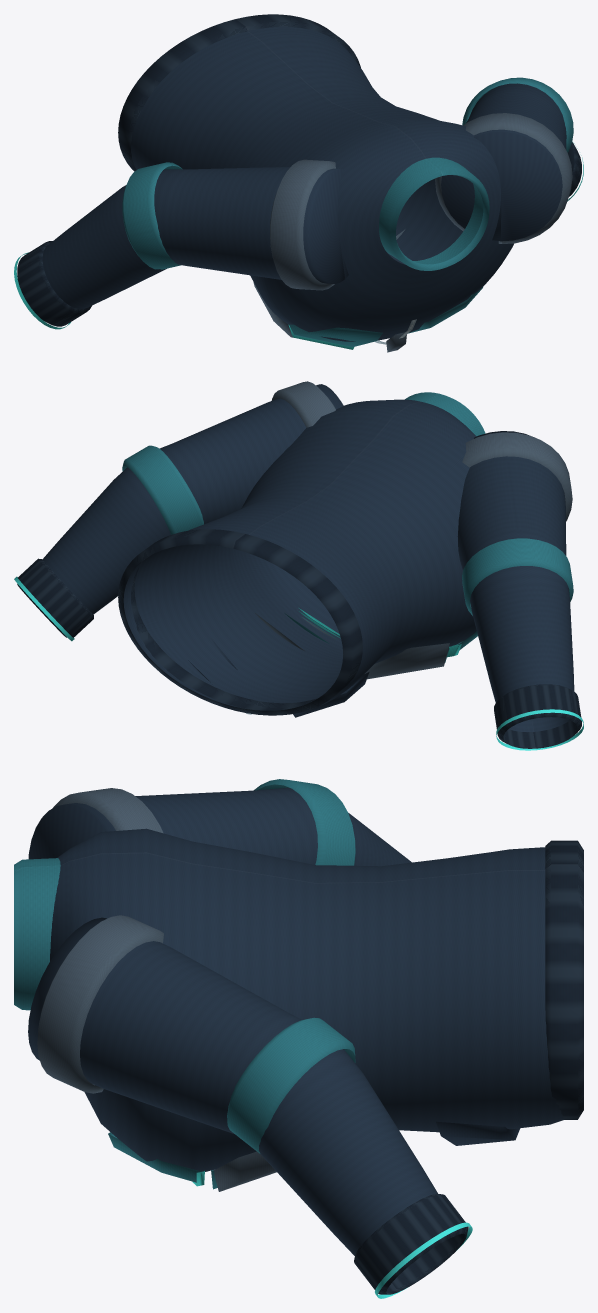
Rendered from Aurora-Jacket.obj.
3 renders of one model, top to bottom at view 1: azimuth 30°, elevation 25°; view 2: azimuth 150°, elevation 25°; view 3: azimuth 270°, elevation 25°, orthographic. The views are drawn at different scales.
Parts seen in each view (by area): view 1: Aurora_Jacket; view 2: Aurora_Jacket; view 3: Aurora_Jacket.
Part boxes in pixels (left/top/right/bottom): Aurora_Jacket: left=14, top=14, right=583, bottom=352; Aurora_Jacket: left=14, top=381, right=583, bottom=750; Aurora_Jacket: left=14, top=779, right=583, bottom=1298.
Size of the model in its own units: 0.8666 by 0.3438 by 0.558.
1 material, 1 textured.
